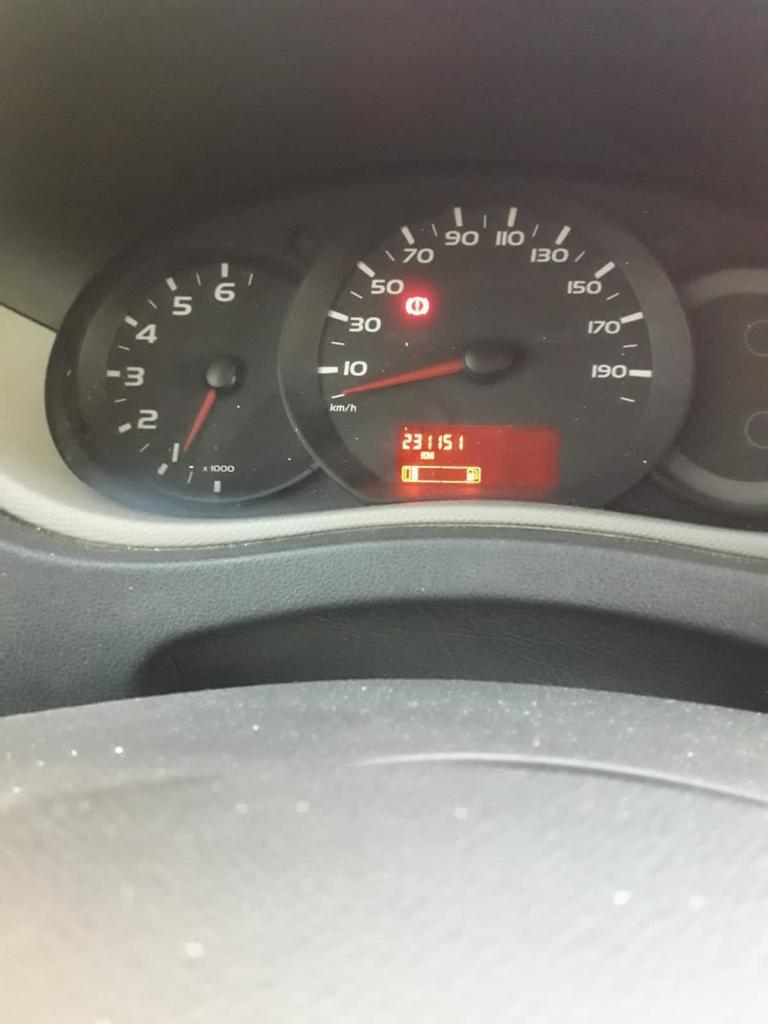1: (425, 432, 433, 450), (456, 433, 464, 451), (437, 432, 442, 450)
2: (400, 432, 411, 450)
3: (413, 432, 422, 450)
5: (443, 431, 453, 451)
X: (426, 451, 435, 460), (419, 451, 426, 460)
odometer: (388, 418, 563, 500)
